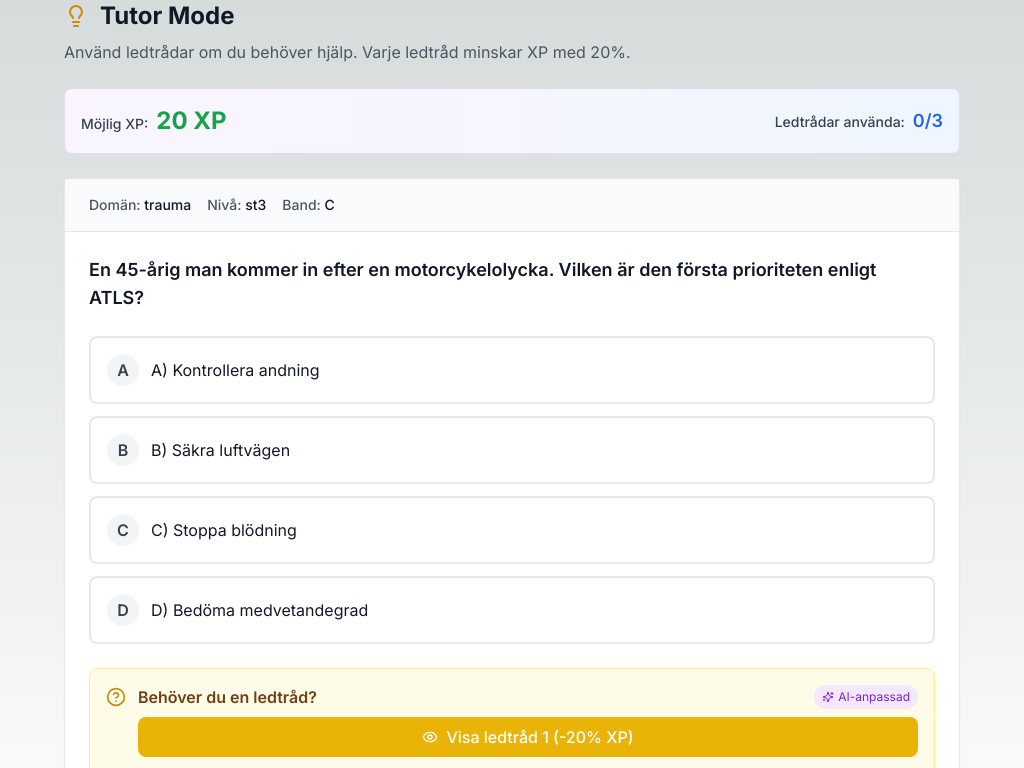
TutorMode › Answer Submission - Wrong › should show explanation when submitting wrong answer
The width and height of the screenshot is (1024, 768).
// Select wrong answer (A)
Click the text "A) Kontrollera andning". click: point(235, 370)
box: [151, 360, 320, 380]
(page scrolled)
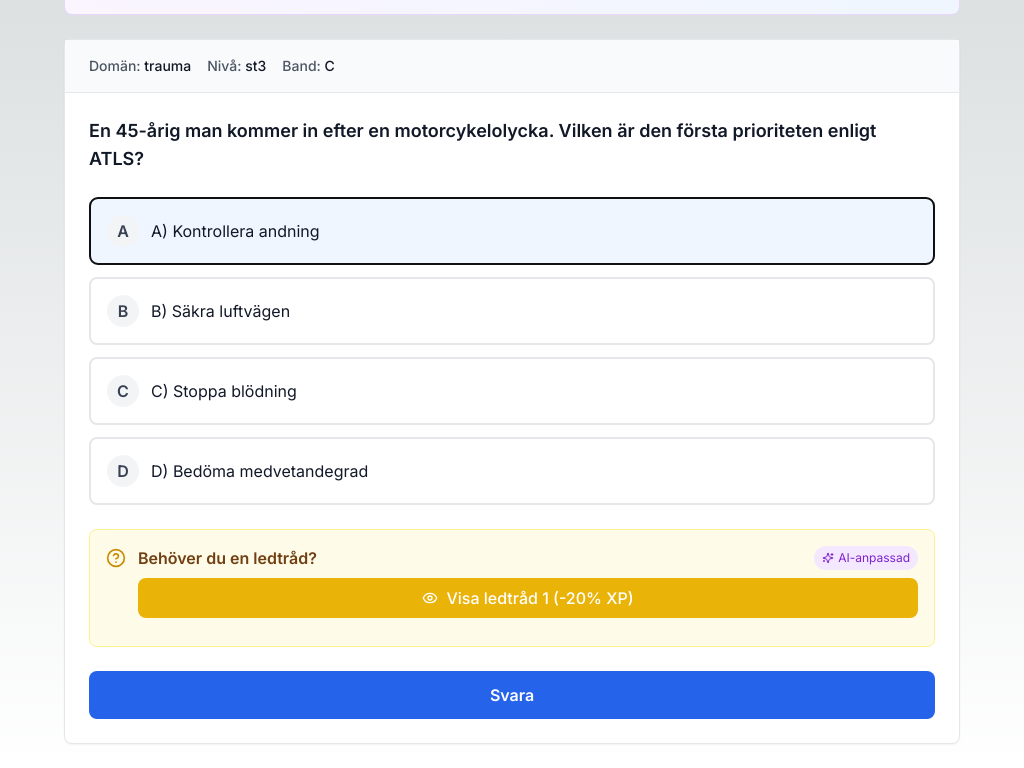
Click the button "Svara". click: point(512, 695)
box: [89, 671, 935, 719]
(page scrolled)
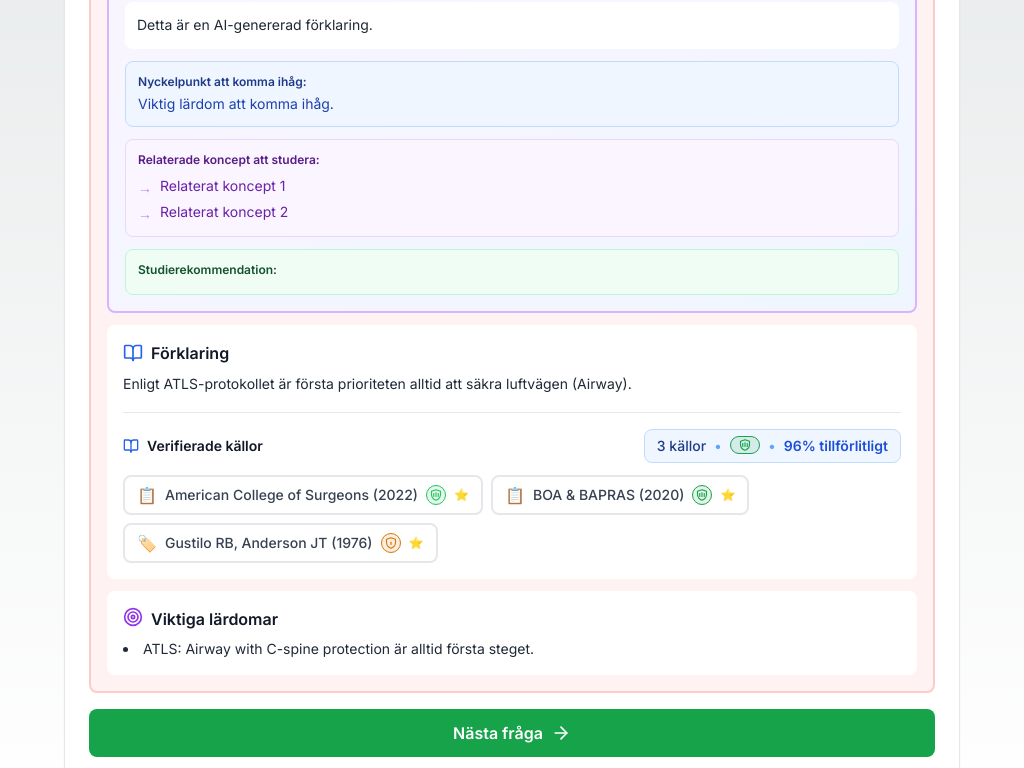
expect the text "ATLS-protokollet" is shown: met, box [123, 375, 632, 392]
